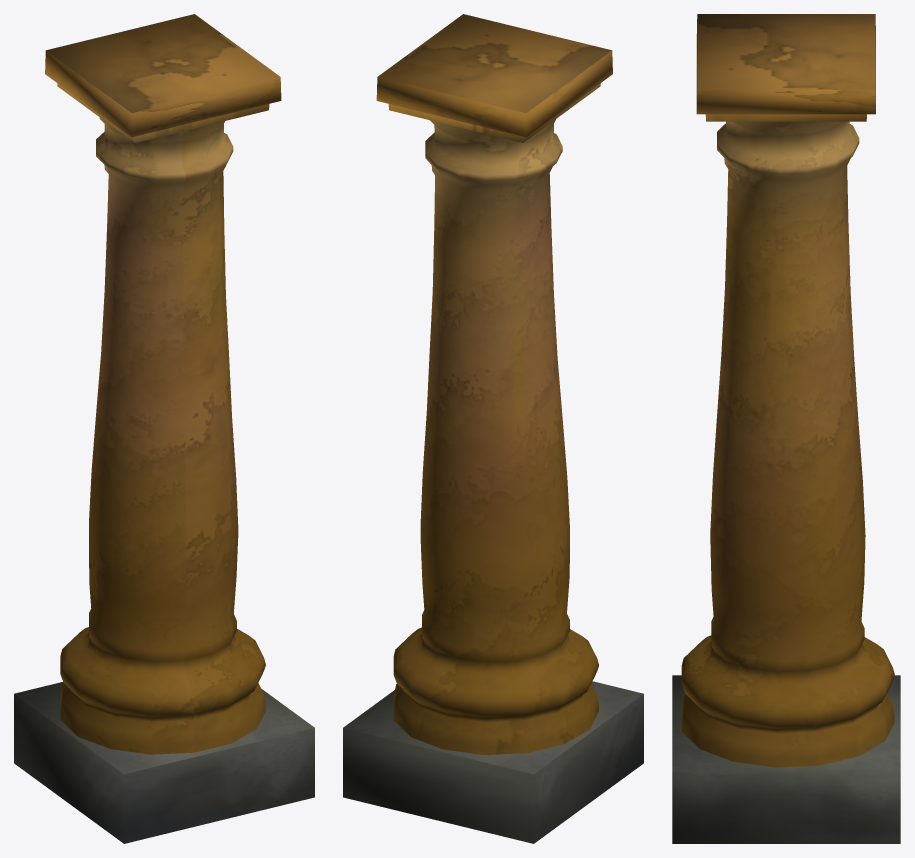
The model's file is PilastraRedonda.fbx.
3 renders of one model, left to right at view 1: azimuth 30°, elevation 25°; view 2: azimuth 150°, elevation 25°; view 3: azimuth 270°, elevation 25°, orthographic. The views are drawn at different scales.
Visible parts, largest first — view 1: Pilastra; view 2: Pilastra; view 3: Pilastra.
Boxes of the visible parts, left/top/right/bottom form: Pilastra: left=14, top=14, right=314, bottom=843; Pilastra: left=343, top=14, right=643, bottom=843; Pilastra: left=672, top=14, right=900, bottom=843.
Bounding box in the file's own units: 276 × 991 × 276.
